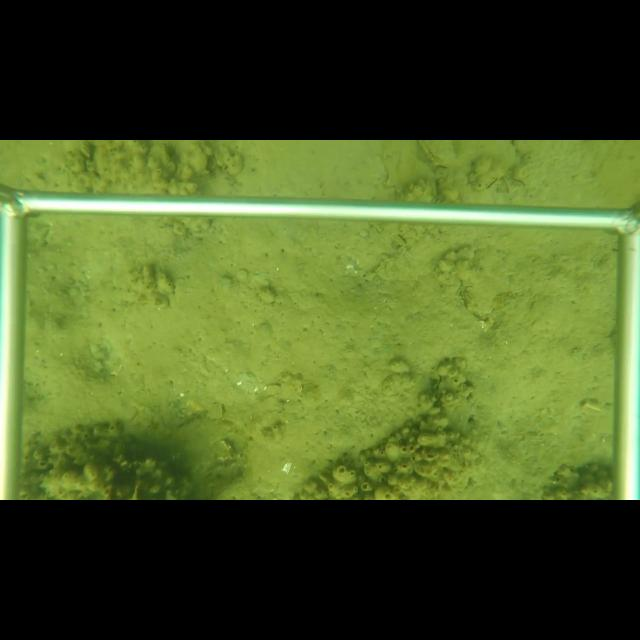Oyster-Closed: (417, 142, 457, 169)
Oyster-Open: (430, 368, 447, 403)
